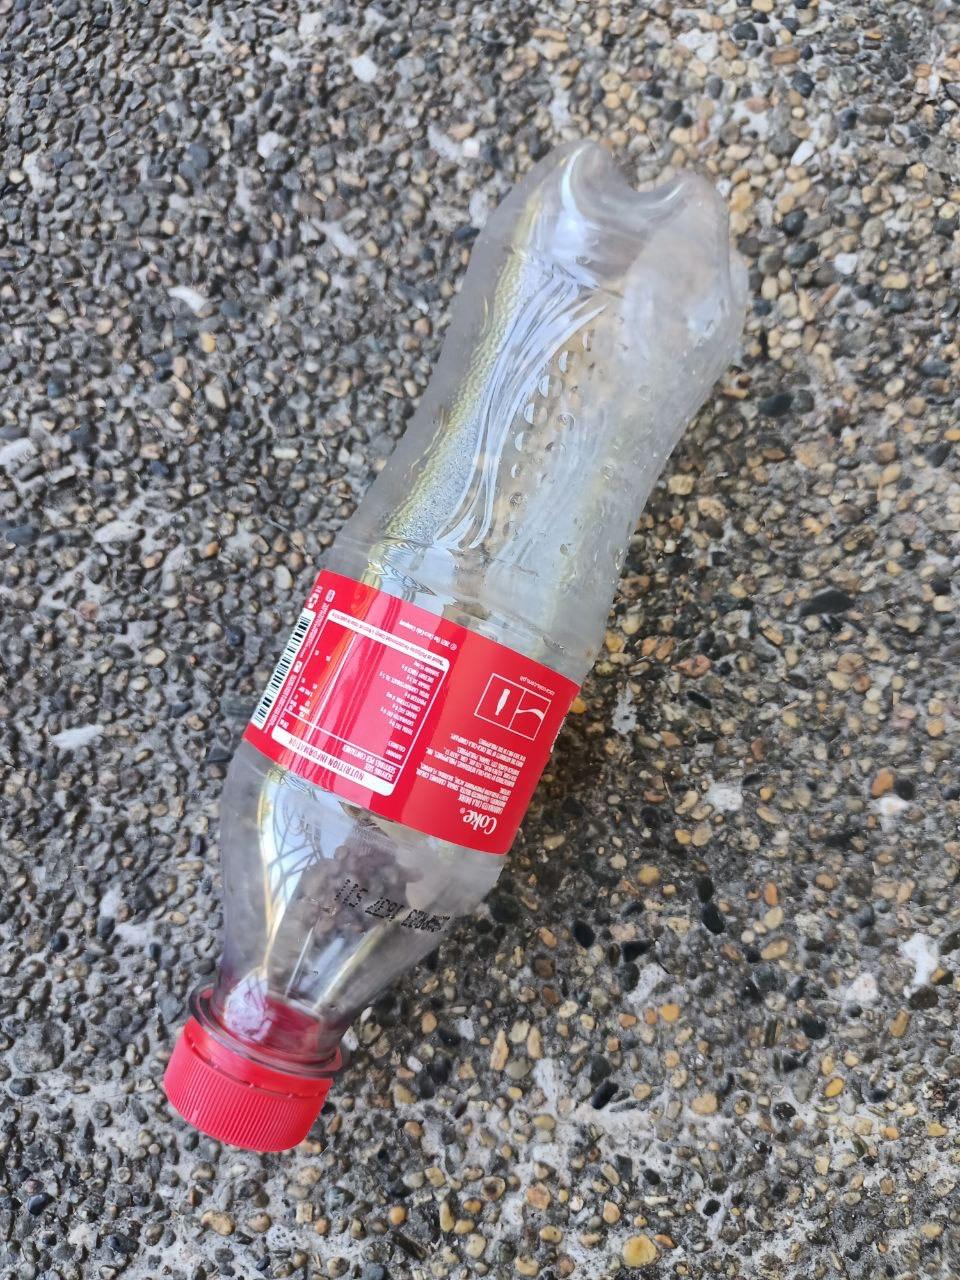plastic: (135, 95, 802, 1181)
